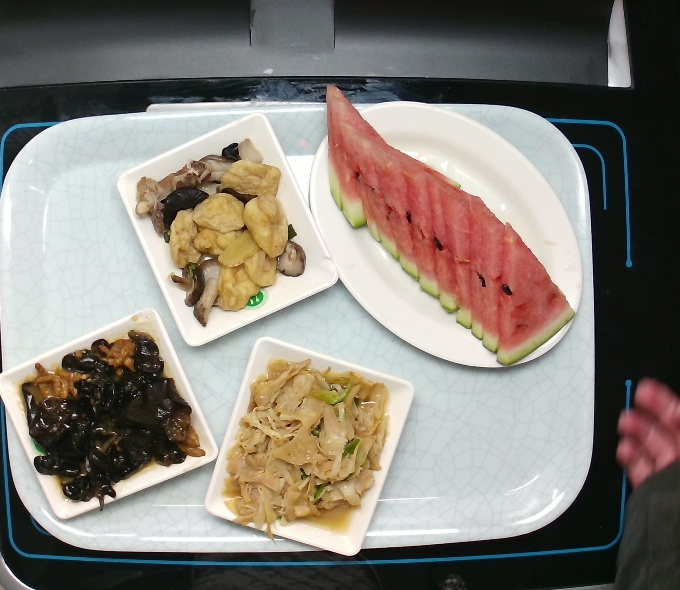wcq-LuSun: (215, 352, 397, 548)
wcq-MuErChaoRou: (15, 322, 204, 515)
wcq-XiGua: (304, 86, 582, 370)
wcq-YouPaoPaiGu: (135, 133, 316, 327)
